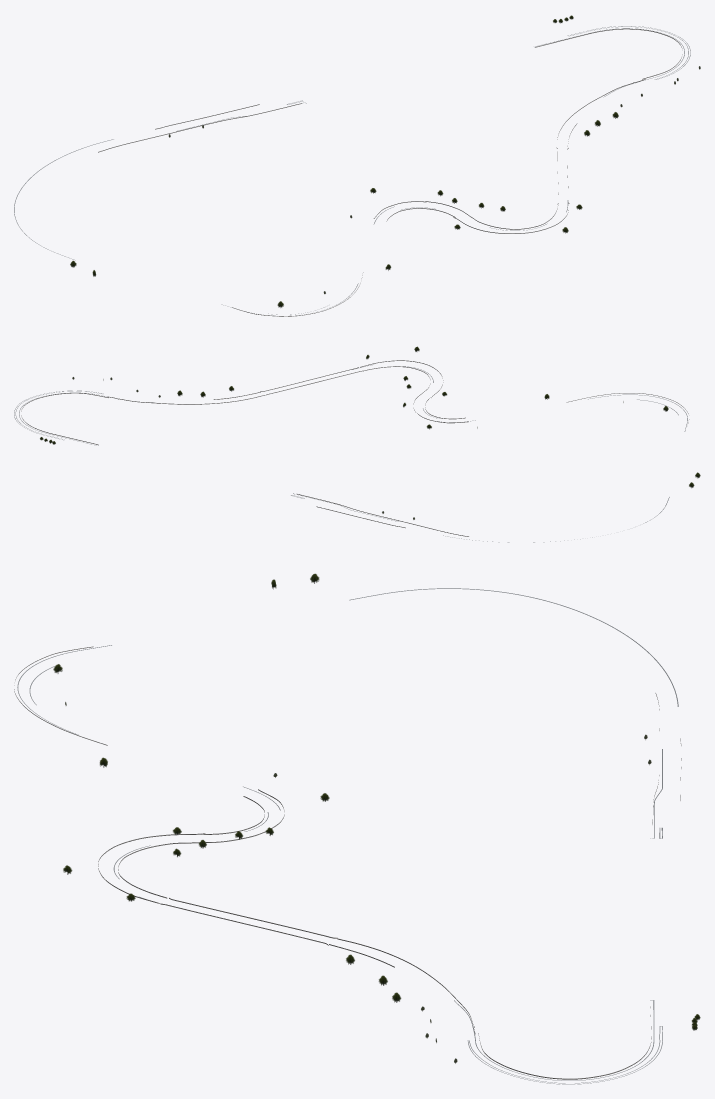
The picture shows the model from 3 angles, top to bottom: view 1: azimuth 30°, elevation 25°; view 2: azimuth 150°, elevation 25°; view 3: azimuth 270°, elevation 25°; orthographic projection. The views are drawn at different scales.
Visible parts, largest first — view 1: highspeedring2_2; view 2: highspeedring2_2; view 3: highspeedring2_2.
Boxes of the visible parts, x1=… form: highspeedring2_2: x1=14, y1=15, x2=700, y2=316; highspeedring2_2: x1=14, y1=346, x2=700, y2=542; highspeedring2_2: x1=14, y1=573, x2=700, y2=1084.
Size of the model in its own units: 1479 by 37.23 by 868.
5 materials, 5 textured.
